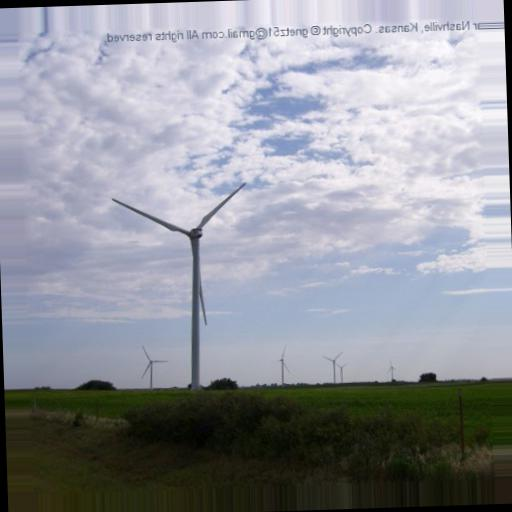wind turbine: (112, 182, 251, 388), (138, 342, 168, 389), (322, 347, 342, 383)
